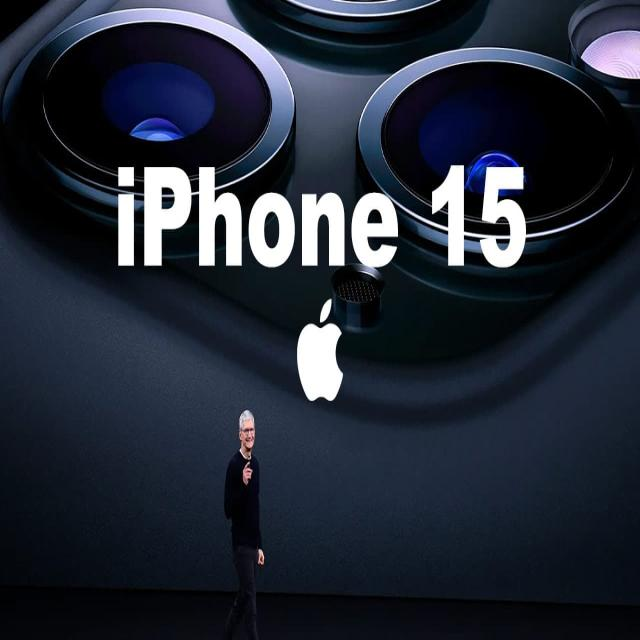stand: (219, 407, 273, 623)
